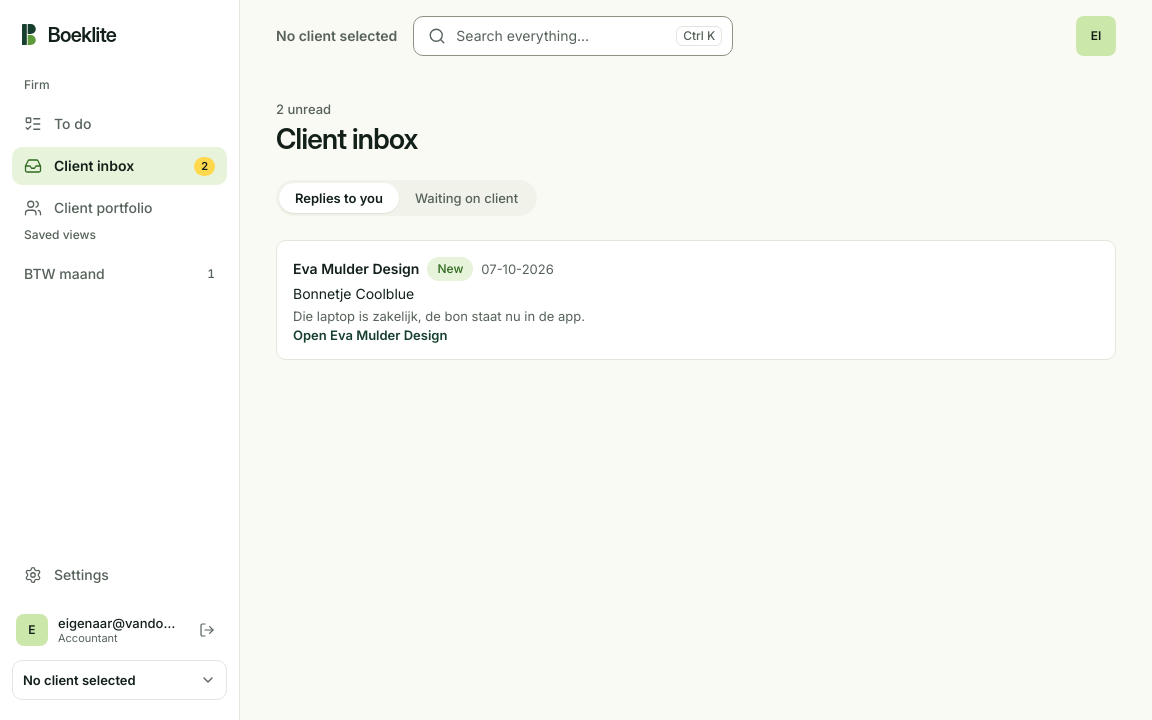
Test case: routing the firm home › the inbox opens on replies to you, with the firm's open questions on their own tab
Check: the tab with test id "firm-inbox-tab-firm" reads "Replies to you", box top-left (279, 183), bottom-right (399, 213)
Check: the text "Bonnetje Coolblue" is shown, box top-left (293, 283), bottom-right (414, 305)
Click the tab with test id "firm-inbox-tab-client" at point(467, 198), box top-left (399, 183), bottom-right (534, 213)
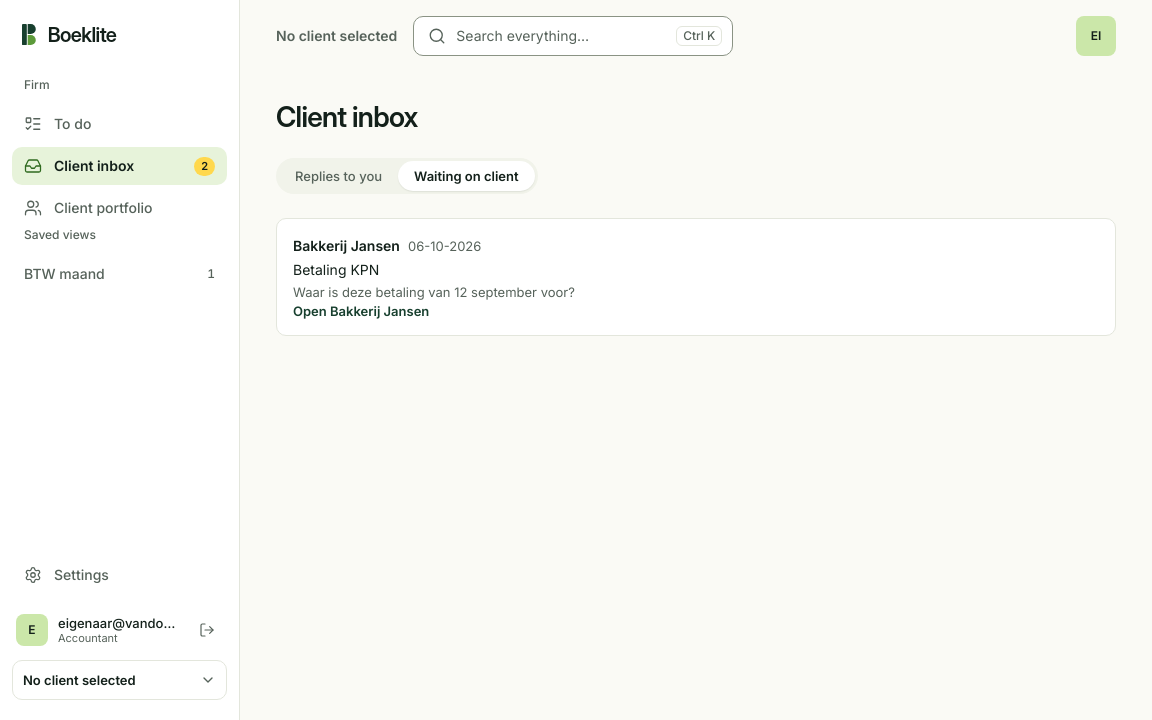
Check: the text "Betaling KPN" is shown, box top-left (293, 259), bottom-right (379, 281)
Check: the text "Bonnetje Coolblue" is gone
